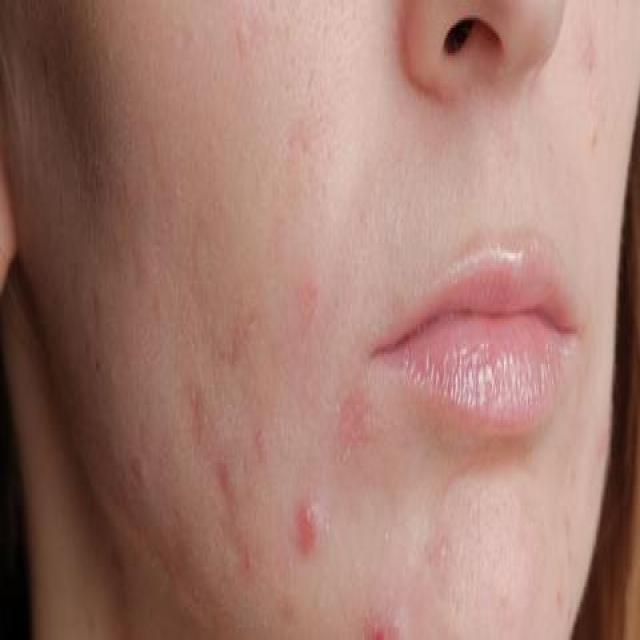Pimples: (298, 491, 318, 546), (582, 30, 594, 66), (434, 536, 438, 554)
